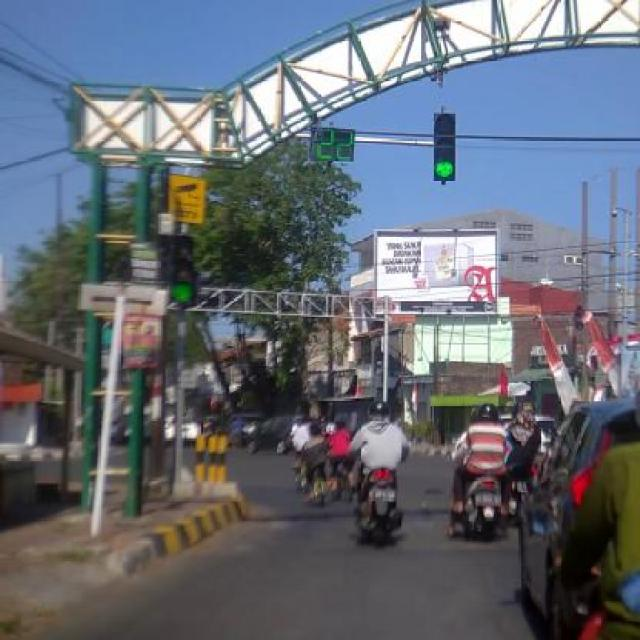traffic light: (166, 232, 196, 311), (434, 112, 457, 182)
